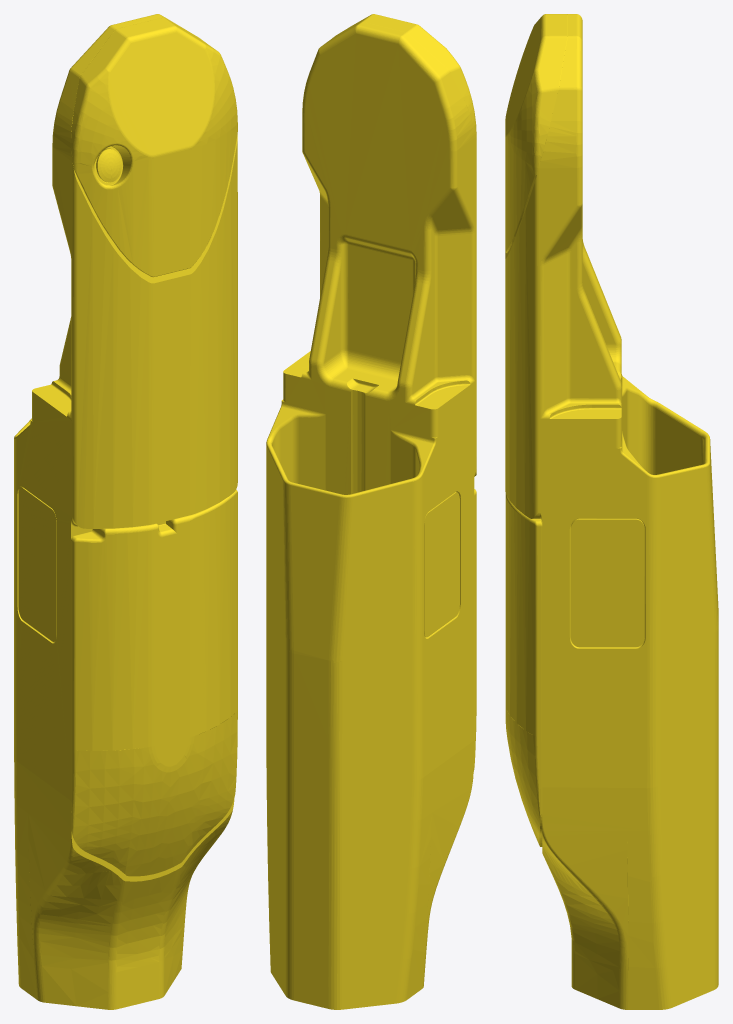
File: FanucM20Link4.dae
The picture shows the model from 3 angles, left to right: view 1: azimuth 30°, elevation 25°; view 2: azimuth 150°, elevation 25°; view 3: azimuth 270°, elevation 25°; orthographic projection. The views are drawn at different scales.
Parts seen in each view (by area): view 1: FanucM20Link4; view 2: FanucM20Link4; view 3: FanucM20Link4.
Boxes of the visible parts, x1,y1,x2,y2 form: FanucM20Link4: (14, 14, 237, 1009); FanucM20Link4: (266, 14, 476, 1009); FanucM20Link4: (505, 14, 718, 1009).
Bounding box in the file's own units: 0.15 × 0.174 × 0.8569.
